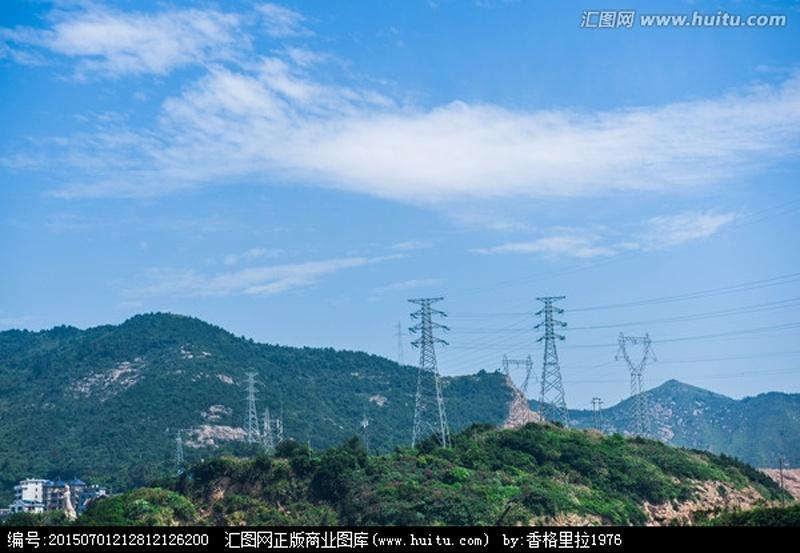power_tower: (406, 298, 453, 451), (613, 330, 661, 441), (532, 296, 570, 428), (498, 350, 536, 425), (240, 370, 262, 446), (392, 321, 410, 367), (258, 407, 276, 450), (589, 397, 608, 432), (173, 429, 185, 474)
